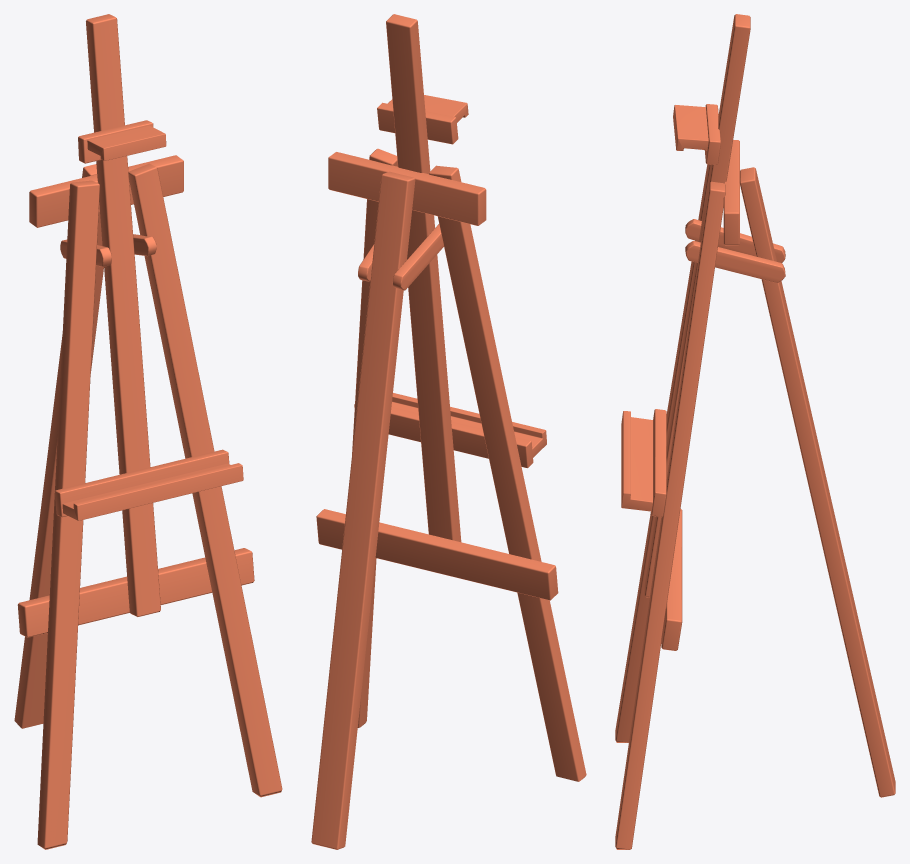
The model's file is Public_14_Easel_1.glb.
3 renders of one model, left to right at view 1: azimuth 30°, elevation 25°; view 2: azimuth 150°, elevation 25°; view 3: azimuth 270°, elevation 25°, orthographic. The views are drawn at different scales.
Visible parts, largest first — view 1: Public_14_Easel_1; view 2: Public_14_Easel_1; view 3: Public_14_Easel_1.
Part boxes in pixels (<box>): Public_14_Easel_1: <box>14,14,282,849</box>; Public_14_Easel_1: <box>311,14,586,849</box>; Public_14_Easel_1: <box>615,14,895,849</box>.
Size of the model in its own units: 0.9457 by 2.87 by 0.9451.
1 material, 1 textured.
